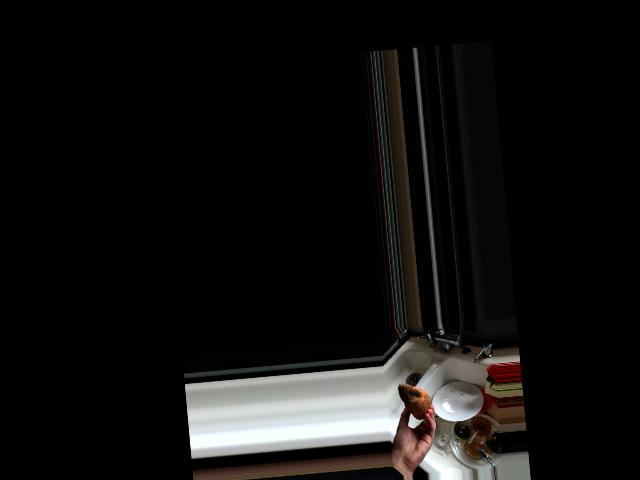sweet_potato: (394, 380, 433, 421)
